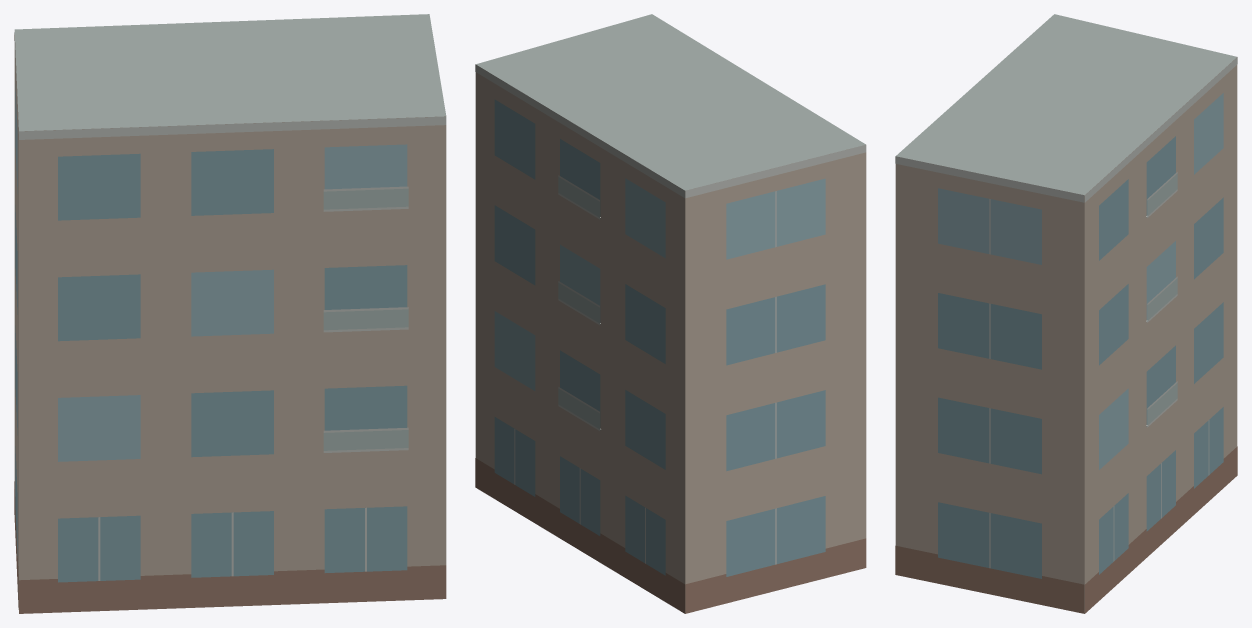
Rendered from survey-upis-32734758.glb.
3 renders of one model, left to right at view 1: azimuth 30°, elevation 25°; view 2: azimuth 150°, elevation 25°; view 3: azimuth 270°, elevation 25°, orthographic. The views are drawn at different scales.
Visible parts, largest first — view 1: survey-upis-32734758.tmp; view 2: survey-upis-32734758.tmp; view 3: survey-upis-32734758.tmp.
Part boxes in pixels (x1,y1,x2,y2): survey-upis-32734758.tmp: (14,14,446,613); survey-upis-32734758.tmp: (475,14,866,613); survey-upis-32734758.tmp: (895,14,1237,613).
Size of the model in its own units: 12.54 by 13.5 by 10.
